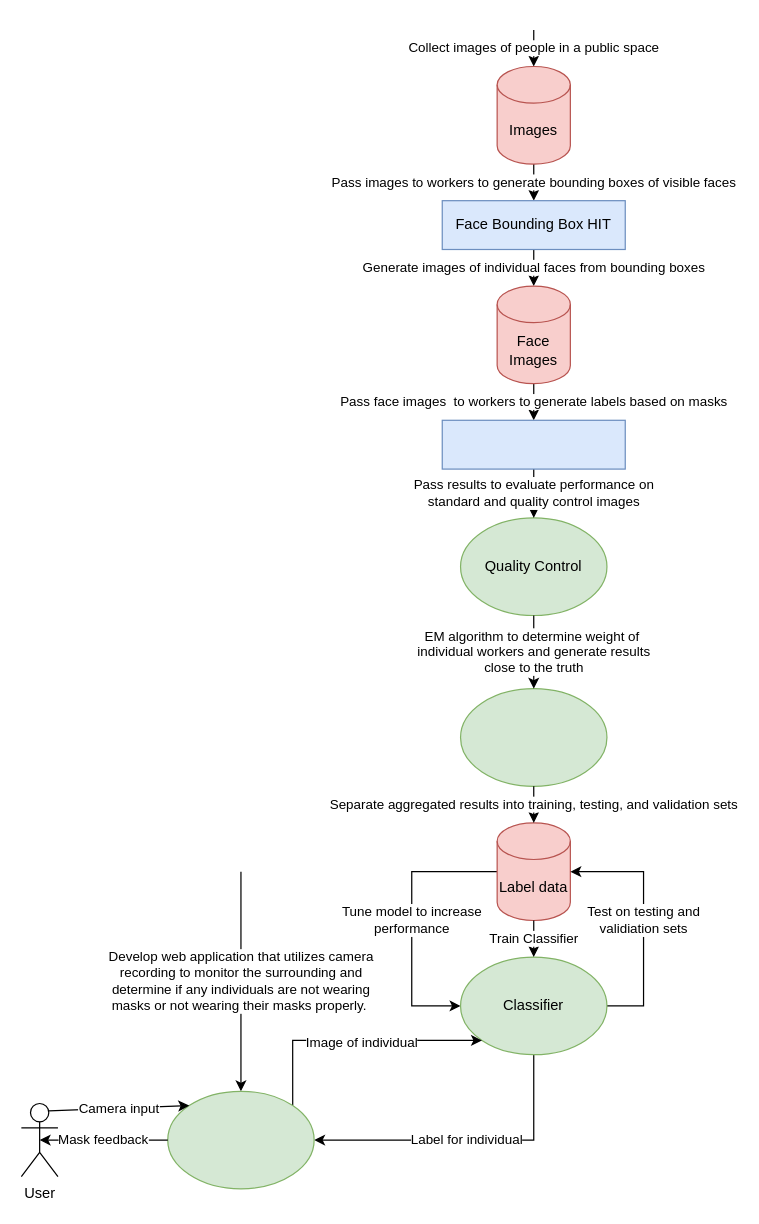
Image size: 759x1224. Some labels were removed from this diagram. The box of each missing label's shape, as (x1, y1, x2, y2) in pixels:
Aggregation: (459, 687, 607, 786)
Face Classification HIT: (441, 419, 625, 469)
Web Application: (167, 1090, 314, 1189)
